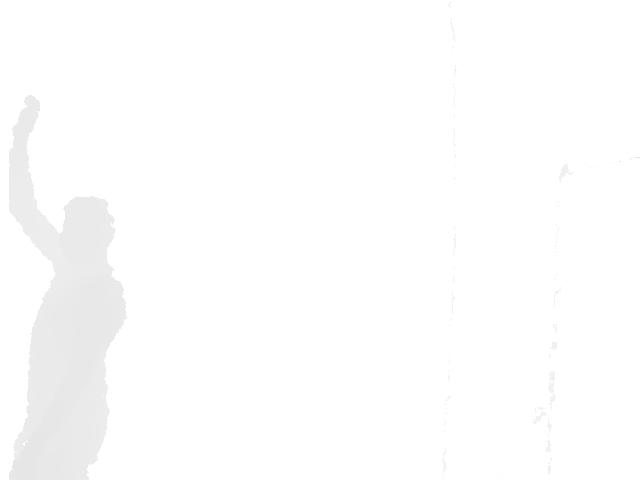hand: (11, 94, 42, 137)
head: (58, 196, 115, 271)
person: (8, 94, 128, 480)
